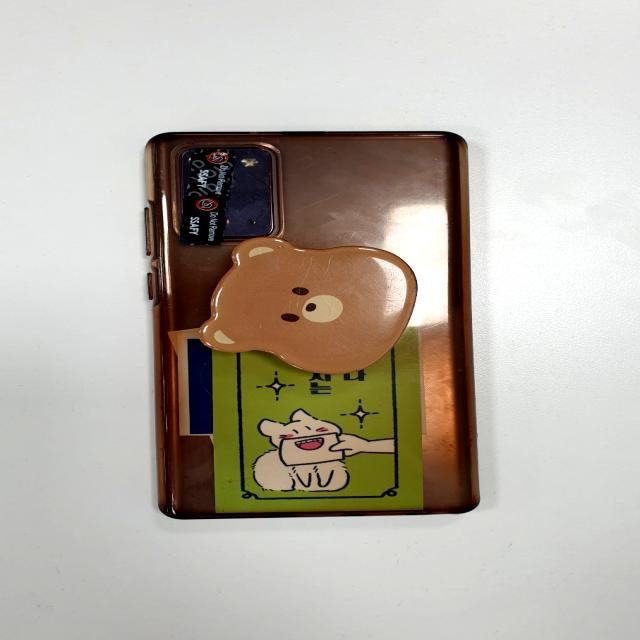phone: (148, 131, 484, 520)
removed_sticker: (191, 149, 229, 195)
sticker: (186, 196, 225, 247)
